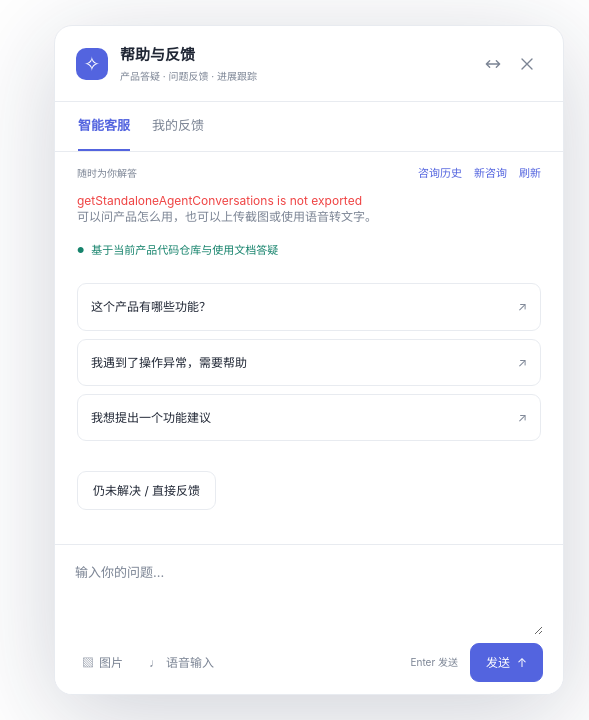
Test: restores manual facts after returning, and requires fresh confirmation
(page scrolled)
Click the button "仍未解决 / 直接反馈".
click(147, 490)  # box left=77, top=471, right=216, bottom=510
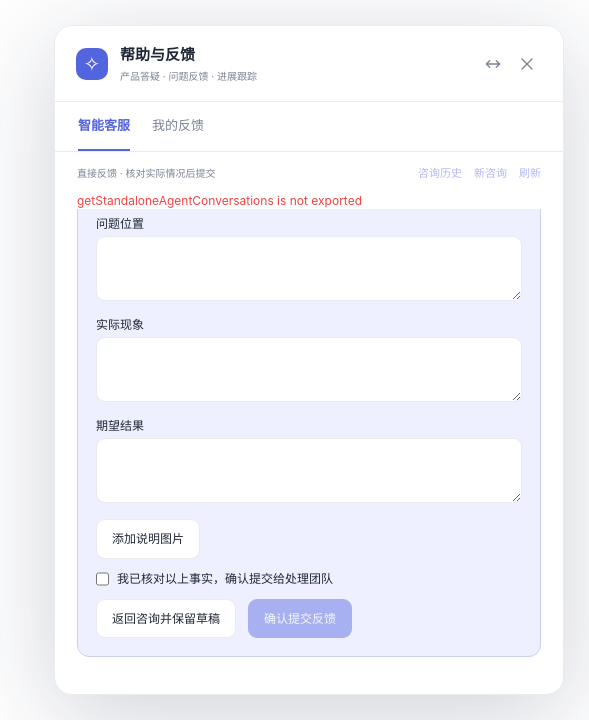
Type "导出页面" into the text box labelled "问题位置".
click(309, 268); type("导出页面")  # box left=96, top=236, right=522, bottom=301
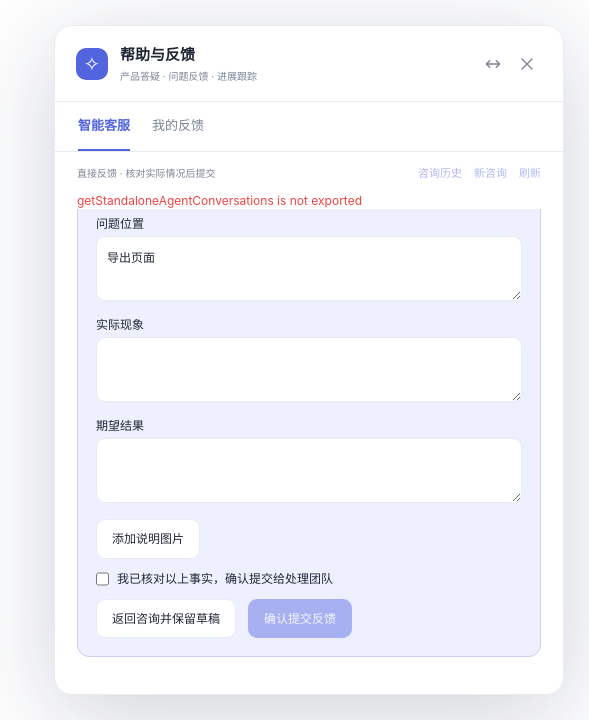
Click the checkbox labelled "我已核对以上事实，确认提交给处理团队".
click(102, 578)  # box left=96, top=570, right=109, bottom=586
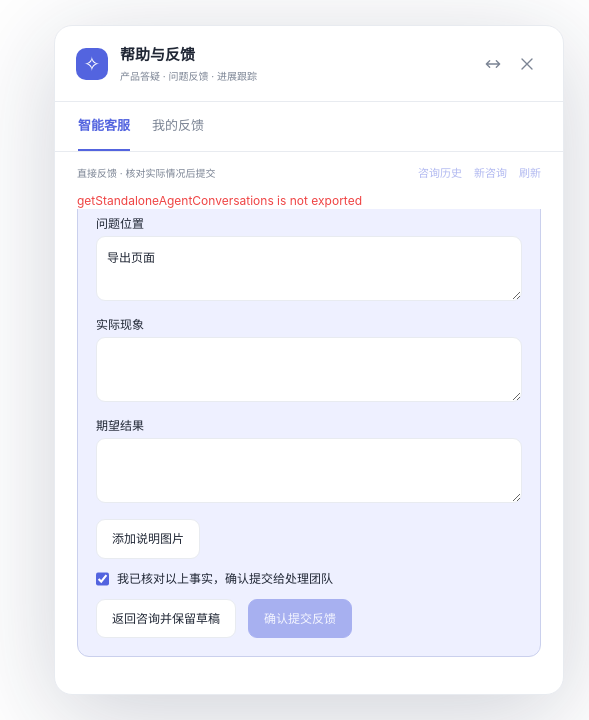
Click the button "返回咨询并保留草稿".
click(166, 618)  # box left=96, top=598, right=236, bottom=638
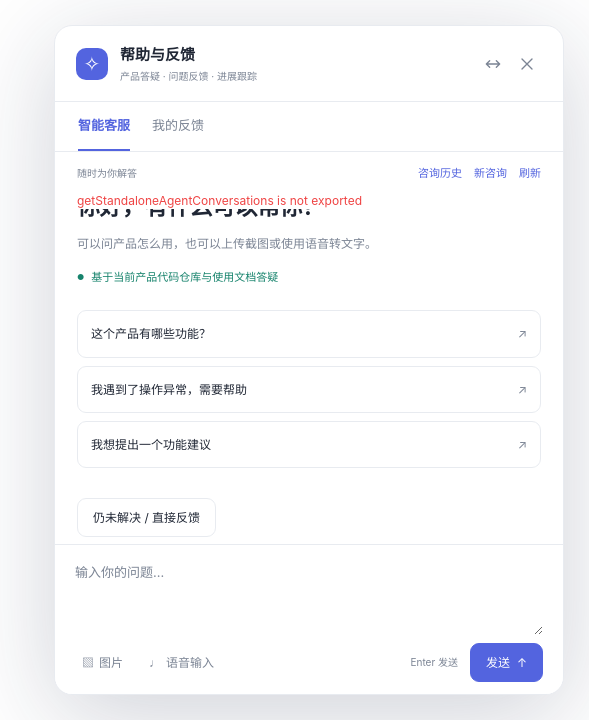
Click the button "仍未解决 / 直接反馈".
click(147, 518)  # box left=77, top=498, right=216, bottom=537
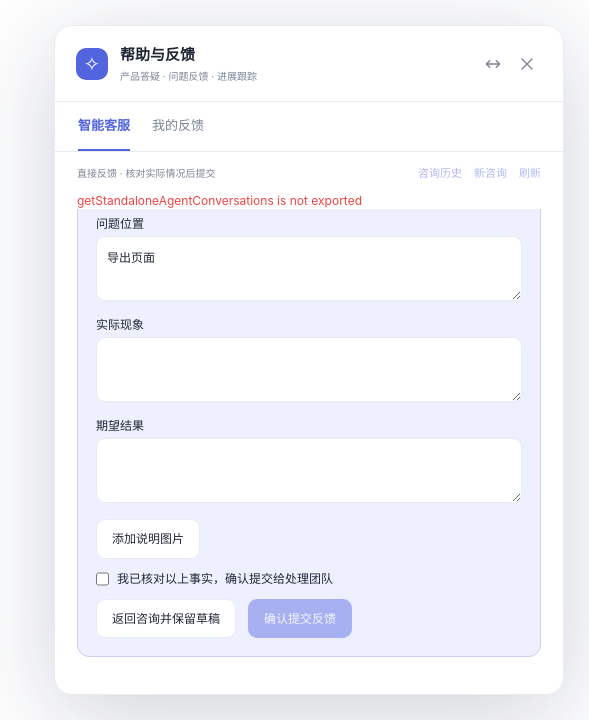
Now the text box labelled "问题位置" holds "导出页面", box left=96, top=236, right=522, bottom=301
Now the checkbox labelled "我已核对以上事实，确认提交给处理团队" is not checked, box left=96, top=570, right=109, bottom=586
